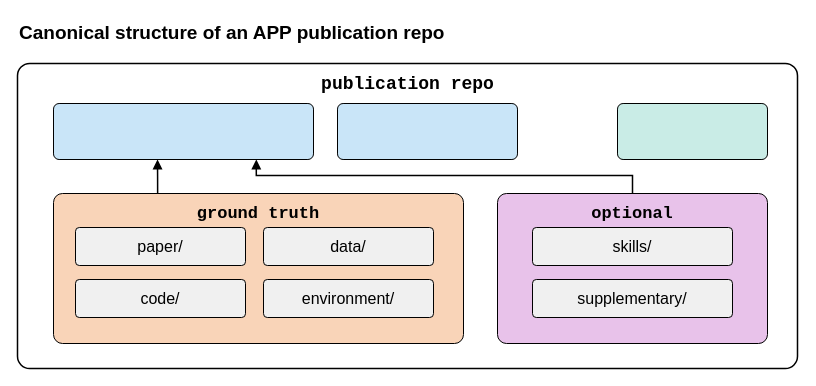
Image size: 816x386. Some labels were removed from this diagram. Each missing label, with the centre of its shape:
AGENTS.md, CLAUDE.md canonical instructions for agents: (x=183, y=131)
LICENSE usage terms: (x=692, y=131)
README.md human entry point: (x=427, y=131)
